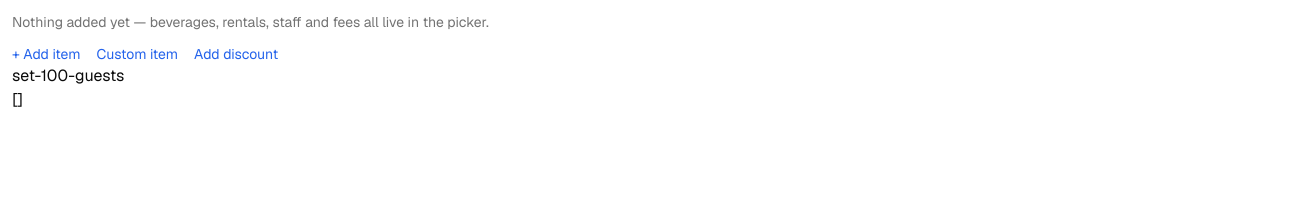
Test: AddOnItemsEditor — every line stays editable › a line named exactly after a catalogue product keeps its name, unit and category
The image size is (1304, 211).
Click the button "Custom item".
click(137, 54)  # box x1=96 y1=44 x2=178 y2=64
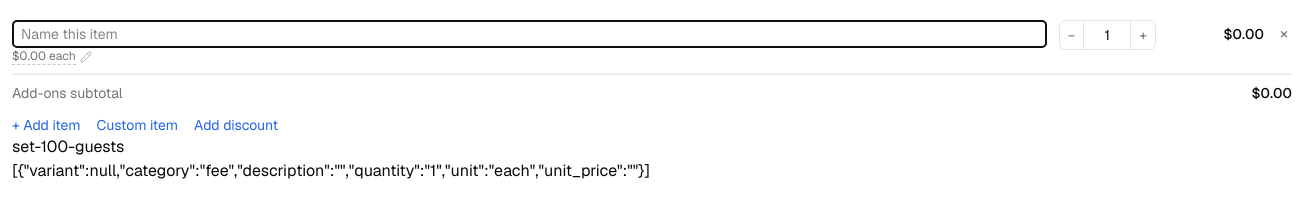
Type "Soft Drinks" into the field labelled "Name".
click(529, 34); type("Soft Drinks")  # box x1=12 y1=20 x2=1047 y2=48
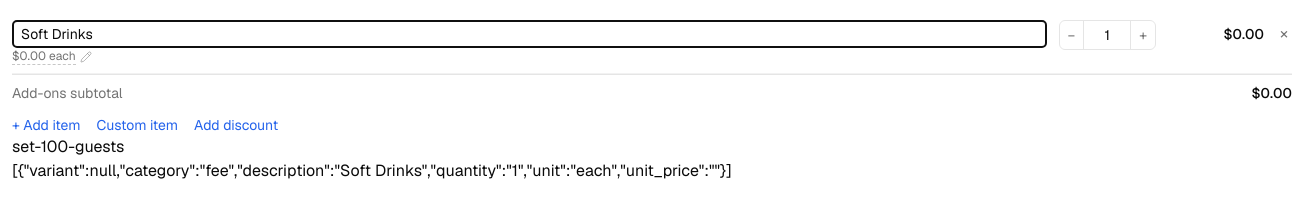
Press Enter in the field named "Name", box x1=12 y1=20 x2=1047 y2=48
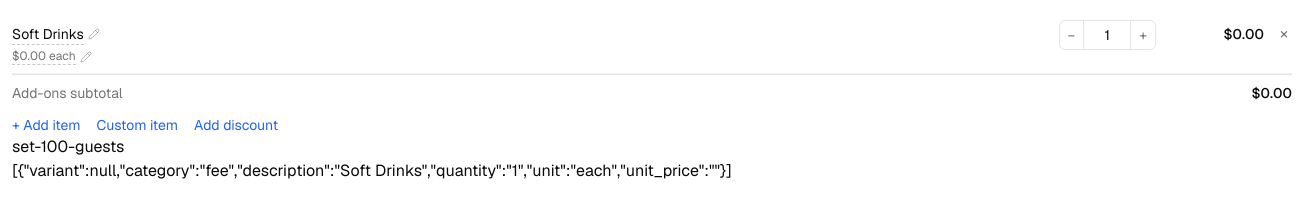
Click the button with aria-label "Edit price and unit".
click(52, 56)  # box x1=12 y1=48 x2=92 y2=65
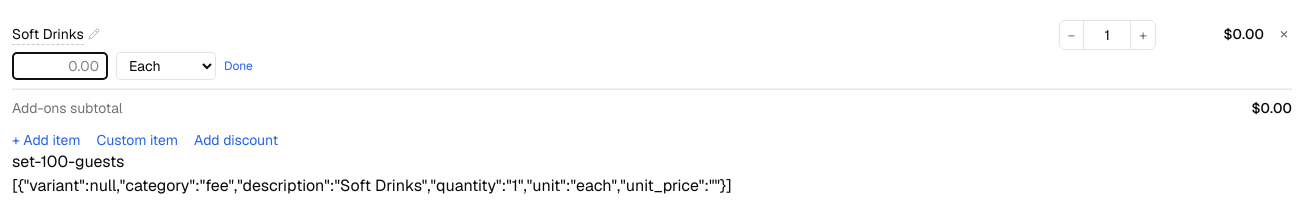
Select "Per guest" in the dropdown named "Unit" at coordinates (166, 66), box x1=116 y1=52 x2=216 y2=80
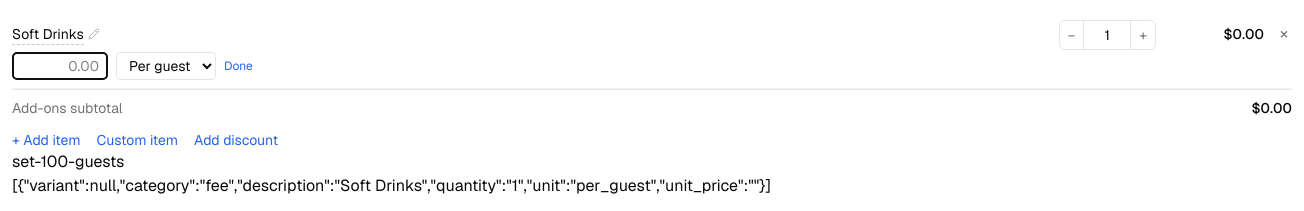
Type "3" into the number field named "Unit price".
click(60, 66); type("3")  # box x1=12 y1=52 x2=108 y2=80
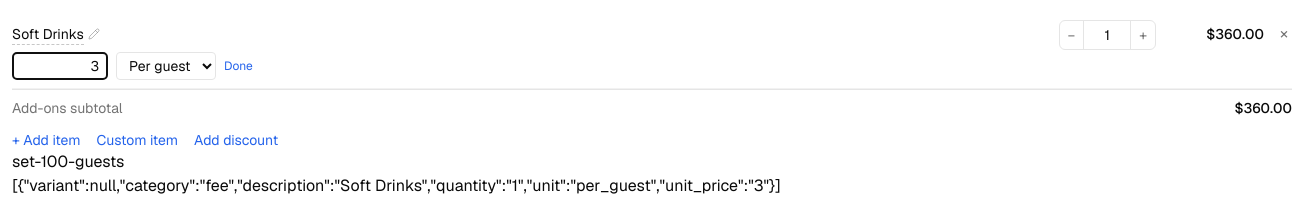
Check: the 1st text "$360.00" is shown, box x1=1206 y1=25 x2=1264 y2=43
